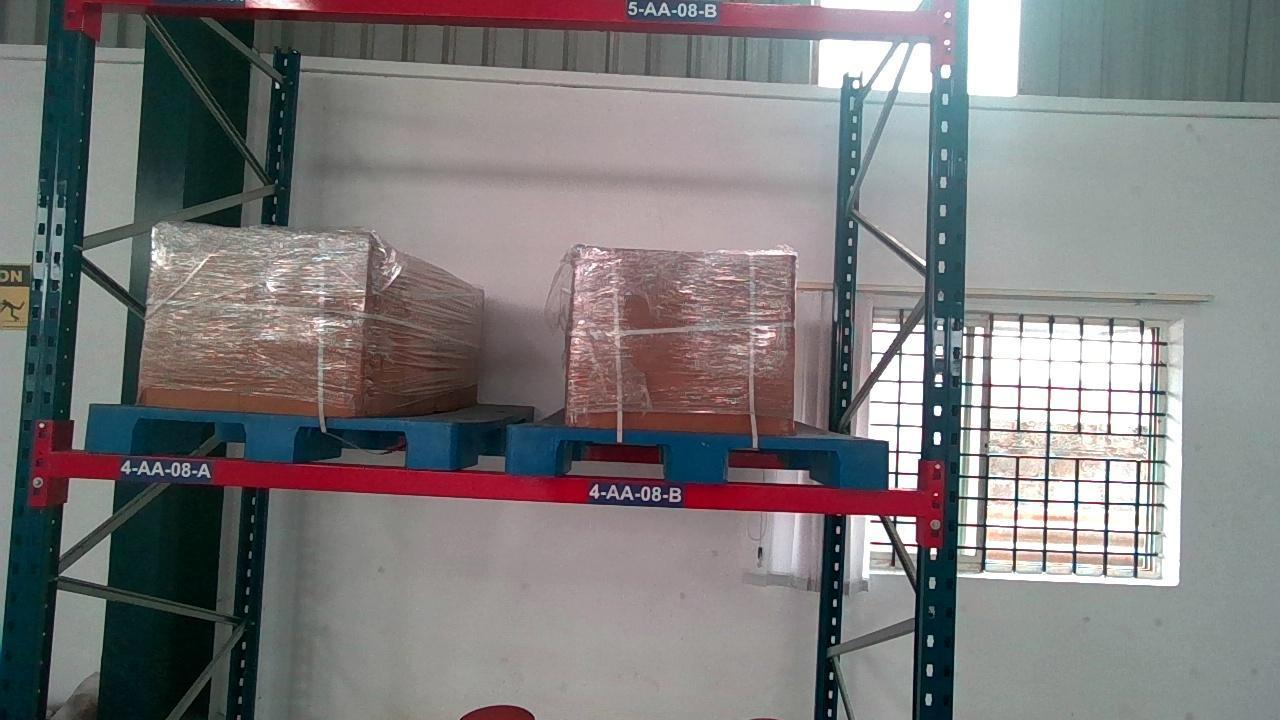h_rack: (41, 447, 937, 517)
small_pallet: (510, 428, 897, 481), (81, 410, 454, 462)
